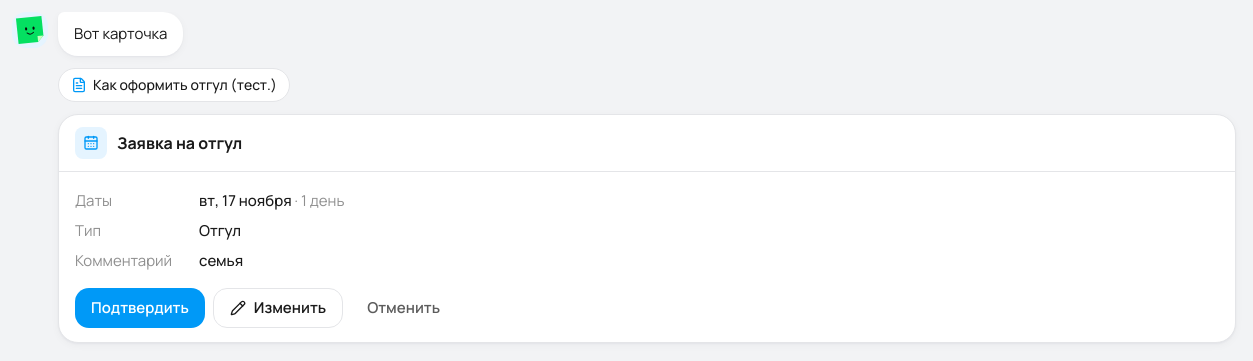
ActionCard: leave_request › показывает даты с днём недели и подтверждает
Expected: the text "· 1 день" is shown, 295,190 -> 344,211
Expected: the text "семья" is shown, 199,250 -> 243,271
Click the button "Подтвердить". click: (140, 308)
box: 75,288 -> 205,328
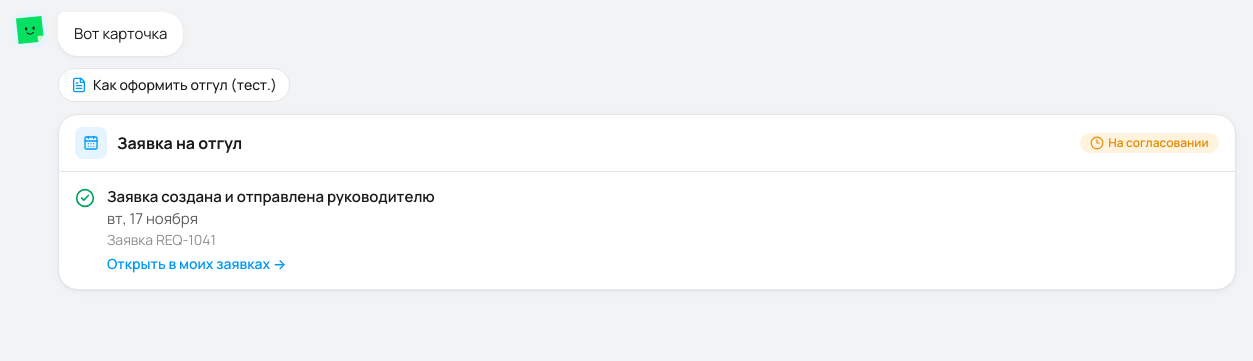
Now the text "На согласовании" is shown, box 1080,133 -> 1219,153
Now the text "Заявка создана и отправлена руководителю" is shown, box 107,186 -> 435,207
